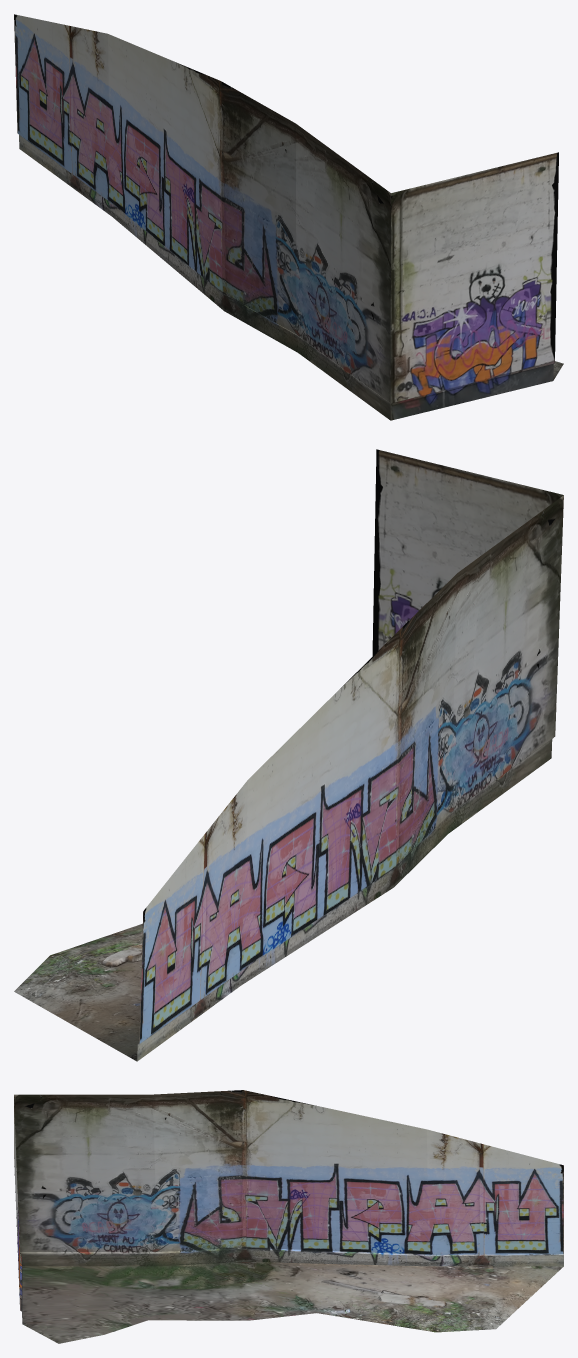
The model's file is graffiti_on_a_wall_-_low_poly.glb.
The picture shows the model from 3 angles, top to bottom: view 1: azimuth 30°, elevation 25°; view 2: azimuth 150°, elevation 25°; view 3: azimuth 270°, elevation 25°; orthographic projection. The views are drawn at different scales.
Parts seen in each view (by area): view 1: Object_2; view 2: Object_2; view 3: Object_2.
Part boxes in pixels (x1,y1,x2,y2): Object_2: (14,14,563,420); Object_2: (14,449,563,1061); Object_2: (14,1090,563,1343).
Size of the model in its own units: 1.54 by 1.66 by 4.66.
Materials: 1 (1 with a texture image).
